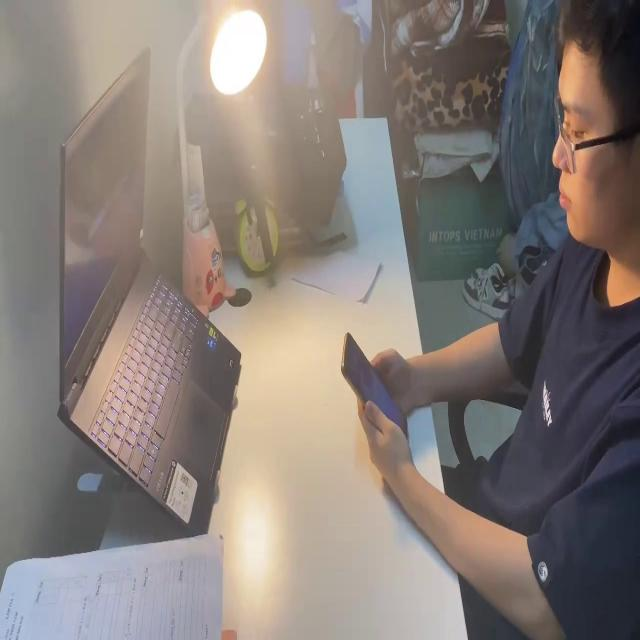laptop: (52, 44, 244, 534)
phone: (341, 327, 411, 448)
student: (353, 0, 640, 640)
